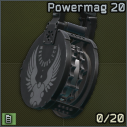SOK-12 12%576 MaxRounds Powermag 20-round magazine: (0, 0, 127, 127)
